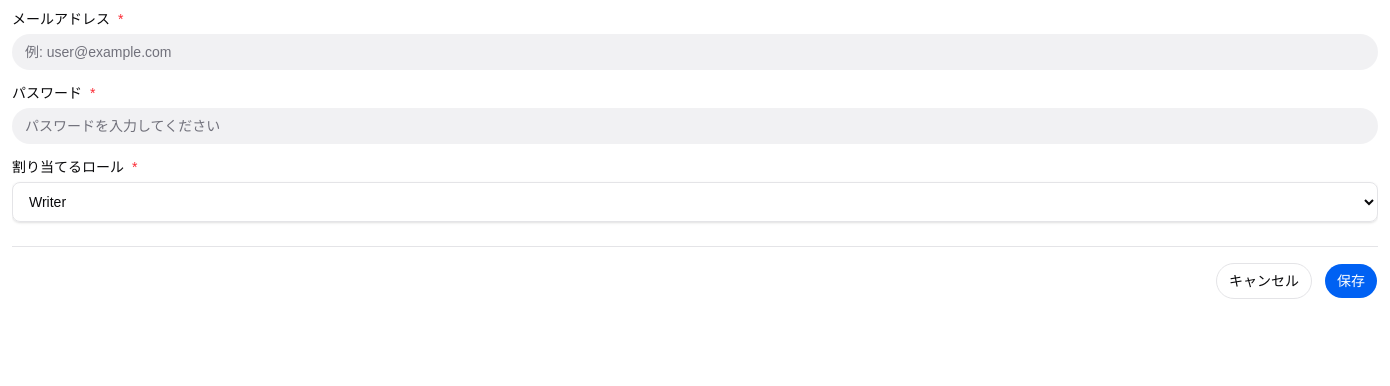
Test: UserForm › requires password when creating a user
Type "a@b.com" into the field labelled "メールアドレス *".
click(695, 52); type("a@b.com")  # box left=12, top=34, right=1378, bottom=70
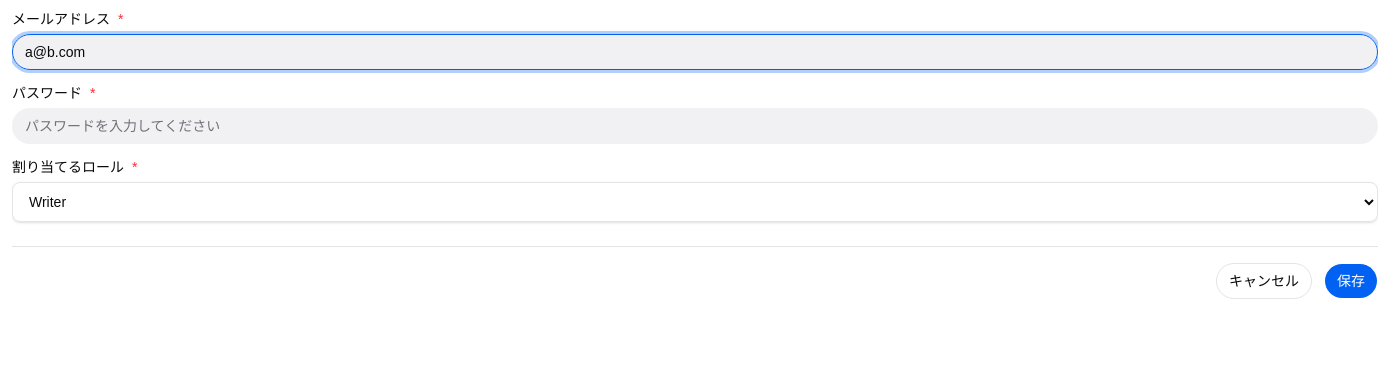
Submit the form "保存"
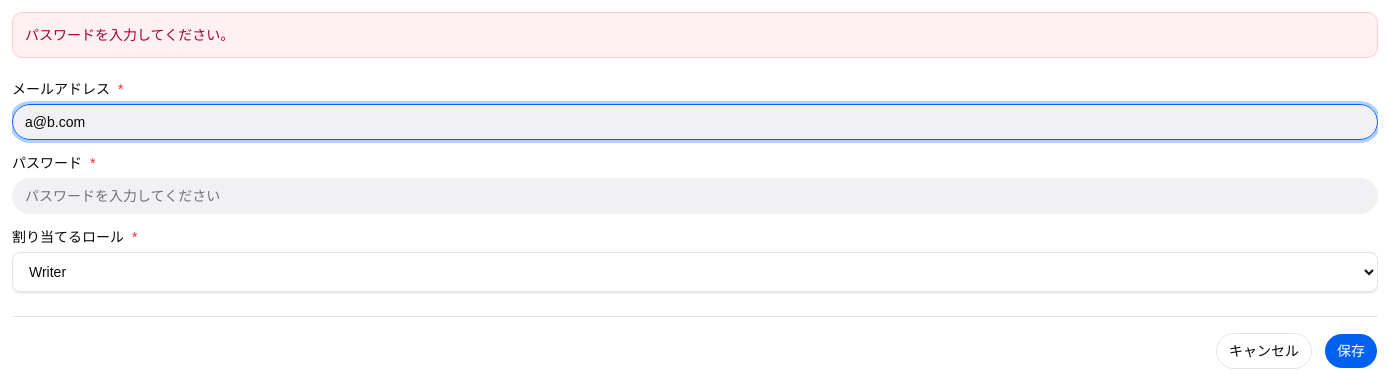
Now the text "パスワードを入力してください。" is shown, box left=12, top=12, right=1378, bottom=58
